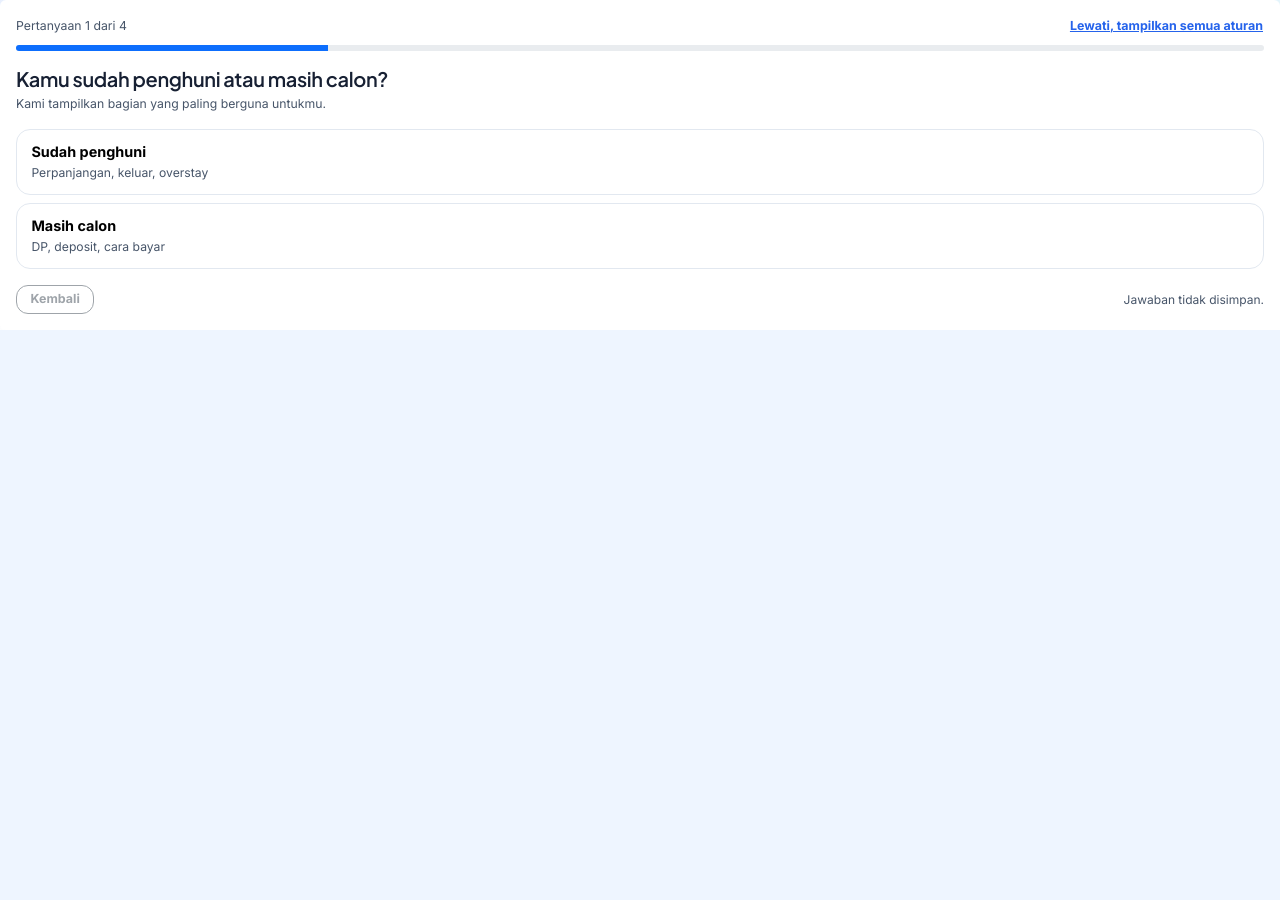
Test: TenantRulesWizard — 4 pertanyaan, tanpa penyimpanan › 4 jawaban menghasilkan ringkasan aturan + angka
Click the button "Sudah penghuni Perpanjangan, keluar, overstay" at [89, 152], box left=16, top=129, right=1264, bottom=195
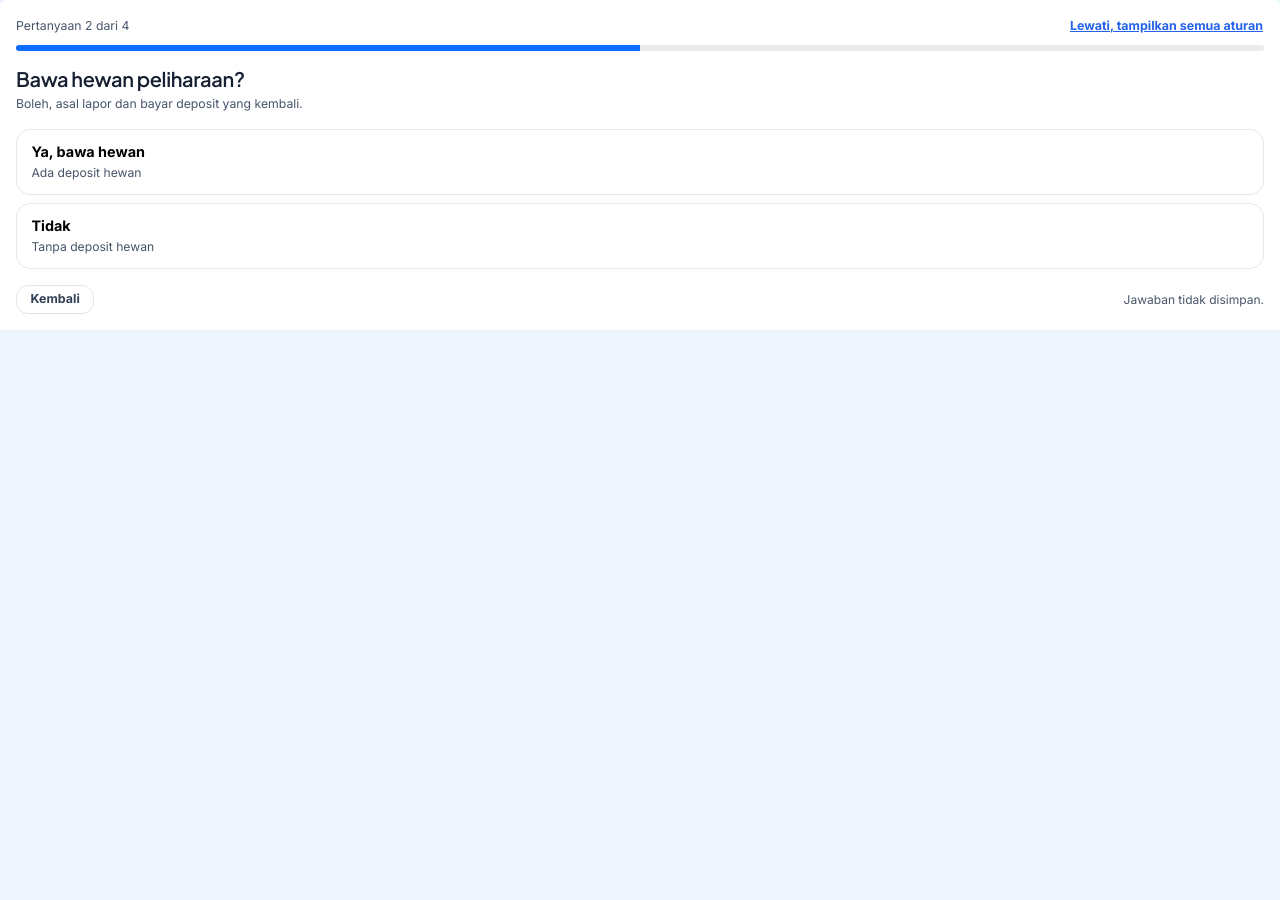
Click the button "Ya, bawa hewan Ada deposit hewan" at [88, 152], box left=16, top=129, right=1264, bottom=195
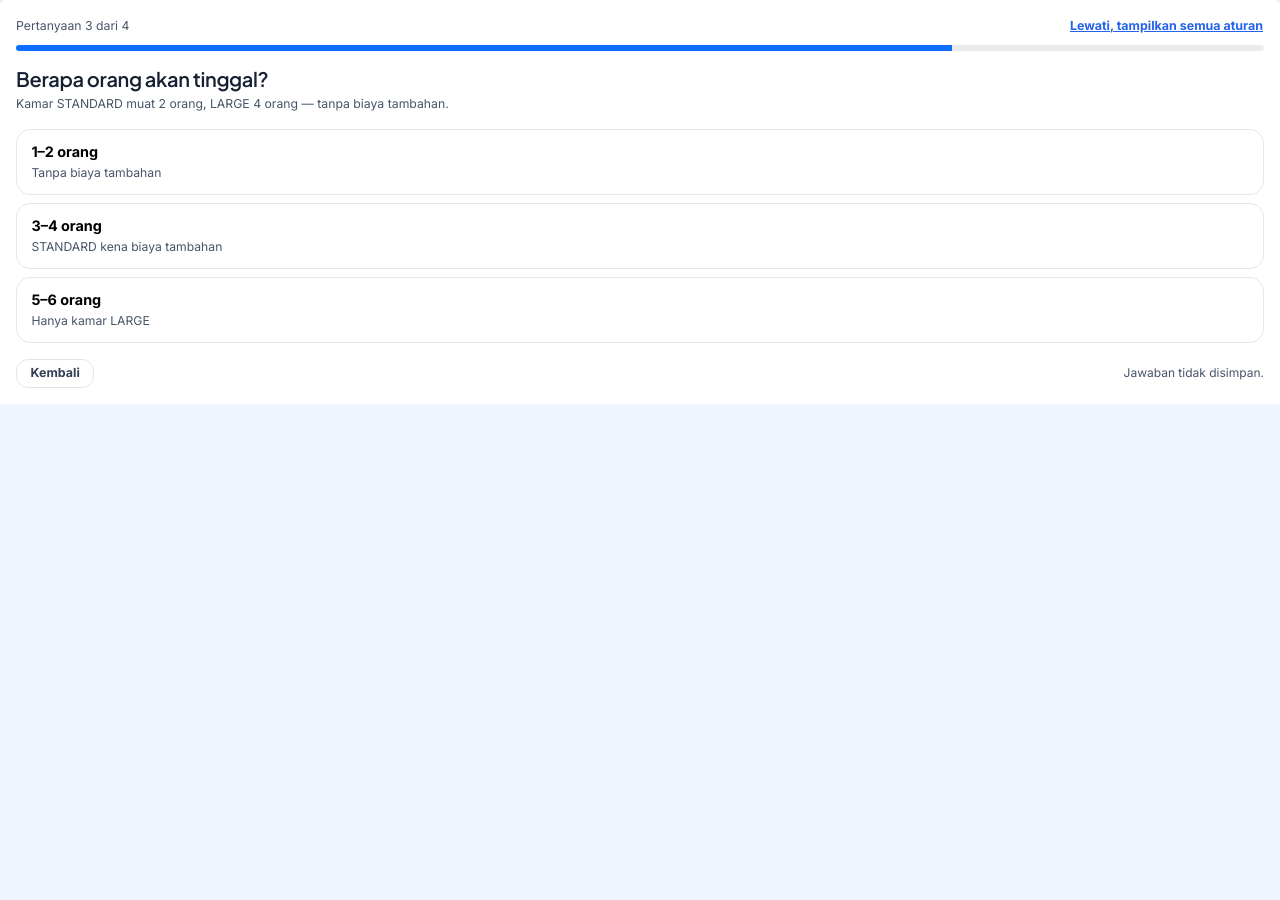
Click the button "3–4 orang STANDARD kena biaya tambahan" at [67, 226], box left=16, top=203, right=1264, bottom=269
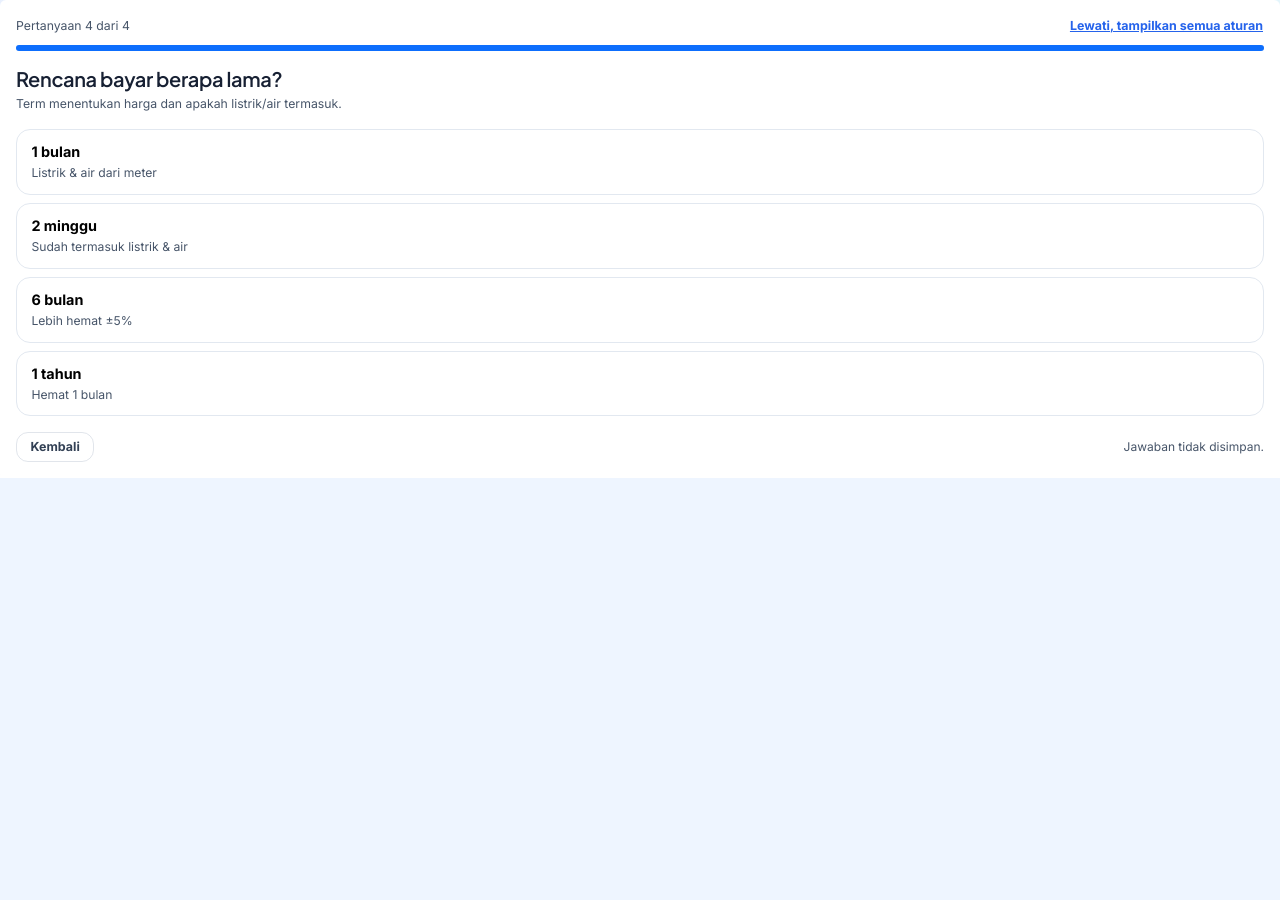
Click the button "6 bulan Lebih hemat ±5%" at [57, 299], box left=16, top=277, right=1264, bottom=342
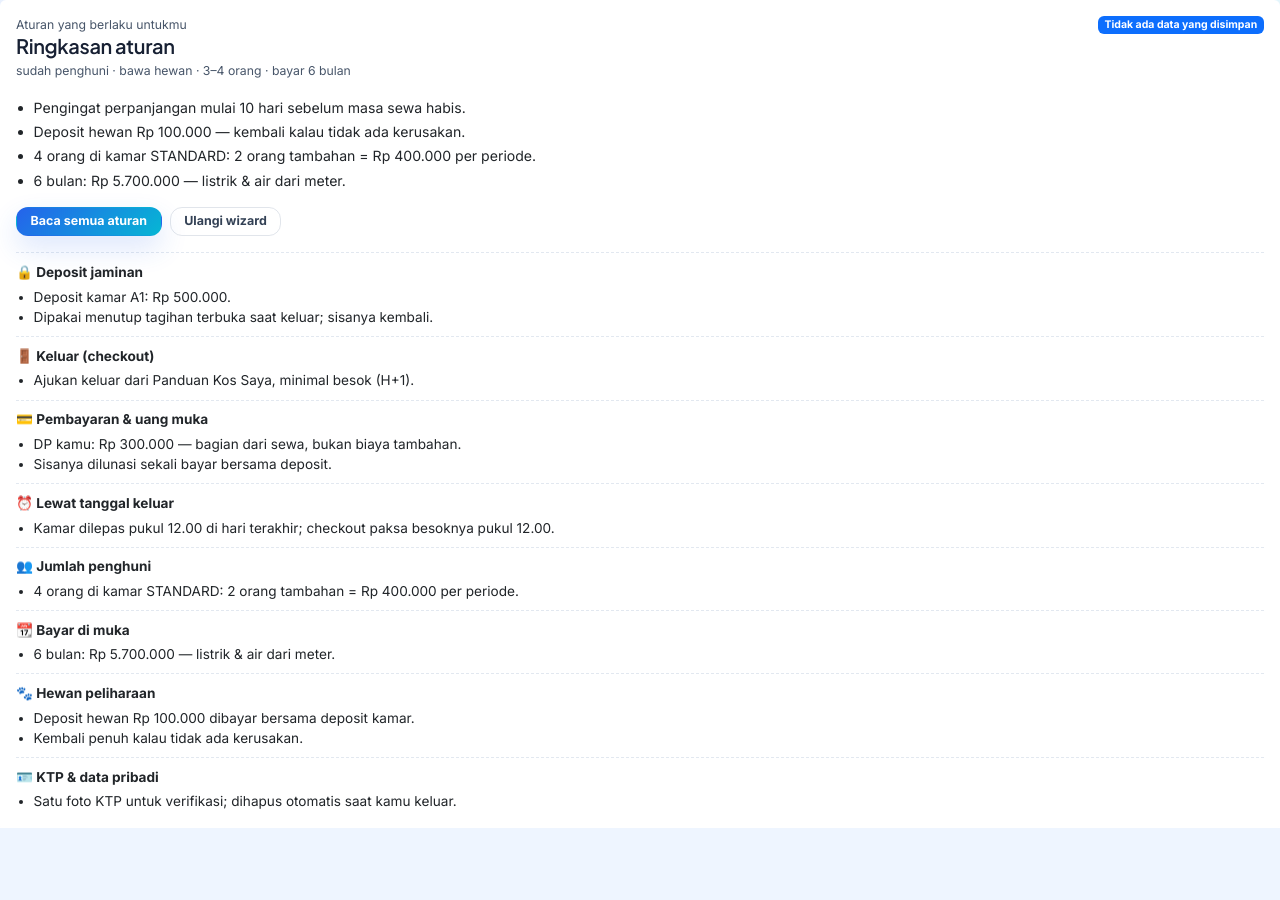
Now the text "Aturan yang berlaku untukmu" is shown, box left=16, top=17, right=187, bottom=32
Now the text "sudah penghuni · bawa hewan · 3–4 orang · bayar 6 bulan" is shown, box left=16, top=62, right=351, bottom=81
Now the list item "Deposit kamar A1: Rp 500.000." is shown, box left=34, top=289, right=231, bottom=305
